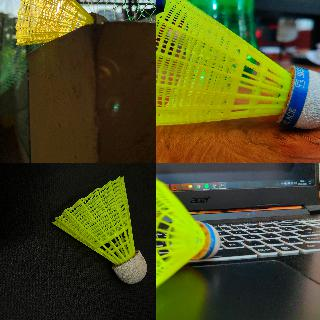shuttlecock: (156, 0, 319, 132), (52, 176, 146, 284), (156, 172, 219, 296), (14, 0, 106, 46)
